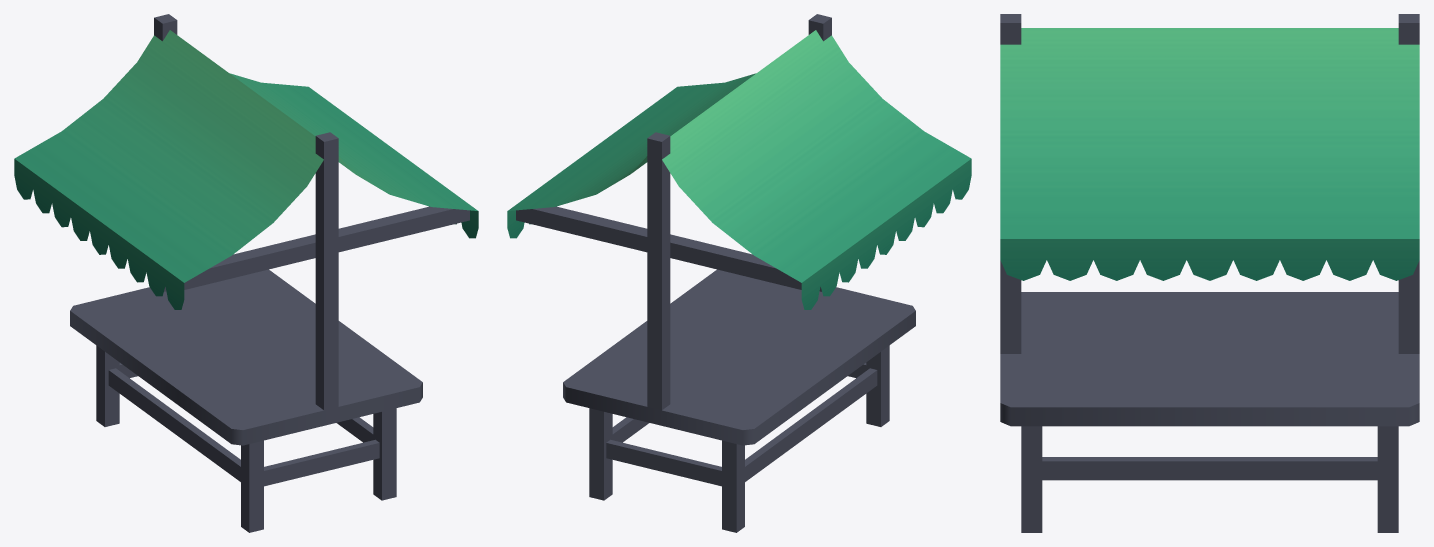
The model's file is stall-green.glb.
The picture shows the model from 3 angles, left to right: view 1: azimuth 30°, elevation 25°; view 2: azimuth 150°, elevation 25°; view 3: azimuth 270°, elevation 25°; orthographic projection. The views are drawn at different scales.
Parts seen in each view (by area): view 1: stall-green; view 2: stall-green; view 3: stall-green.
Part boxes in pixels (x1,y1,x2,y2): stall-green: (14, 14, 478, 532); stall-green: (507, 14, 971, 532); stall-green: (1000, 14, 1419, 532).
Size of the model in its own units: 1 by 1.24 by 1.
1 material, 1 textured.
